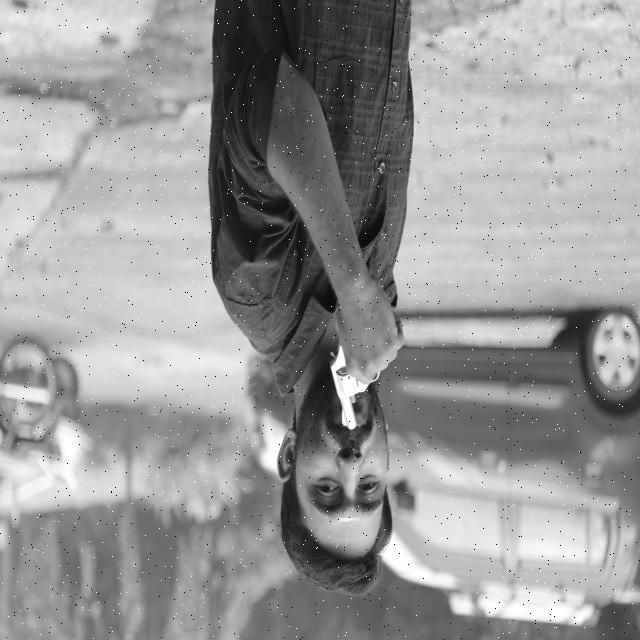gun: (324, 322, 384, 436)
